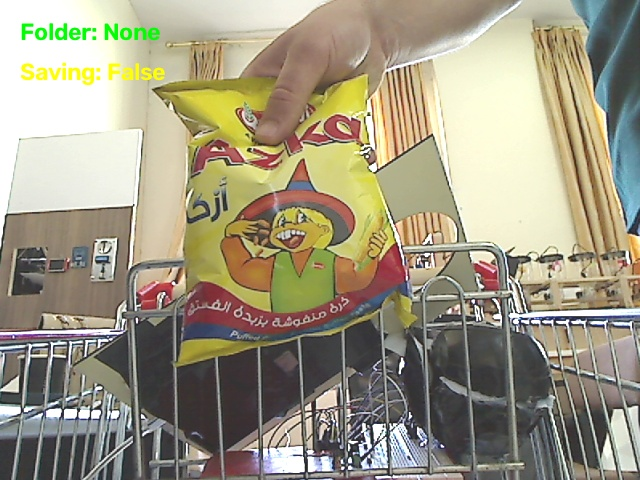chips: (155, 77, 413, 364)
